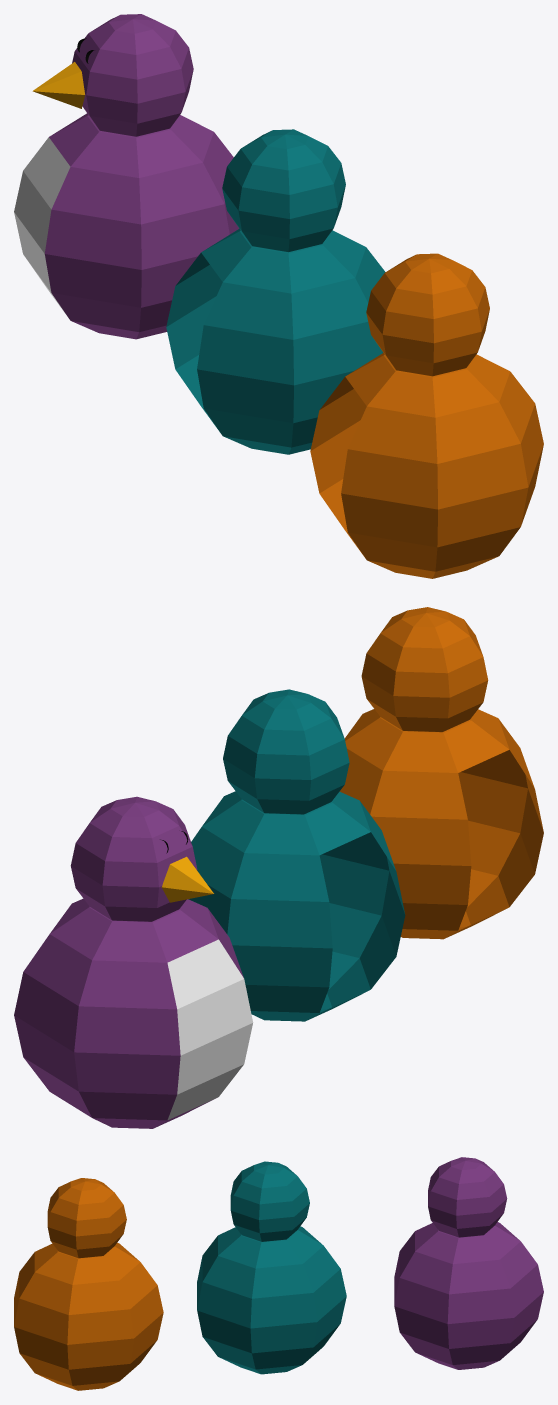
File: dotgraphpenguin.glb
3 renders of one model, top to bottom at view 1: azimuth 30°, elevation 25°; view 2: azimuth 150°, elevation 25°; view 3: azimuth 270°, elevation 25°, orthographic. The views are drawn at different scales.
Parts seen in each view (by area): view 1: Blue, Red, Green; view 2: Red, Green, Blue; view 3: Green, Blue, Red.
Part boxes in pixels (<box>): Blue: <box>310,253,543,578</box>; Red: <box>14,14,239,339</box>; Green: <box>166,129,385,454</box>; Red: <box>14,796,253,1128</box>; Green: <box>188,689,405,1021</box>; Blue: <box>339,607,543,939</box>; Green: <box>197,1161,346,1374</box>; Blue: <box>14,1178,163,1390</box>; Red: <box>394,1157,543,1369</box>.
Size of the model in its own units: 2.01 by 3.1 by 6.73.
